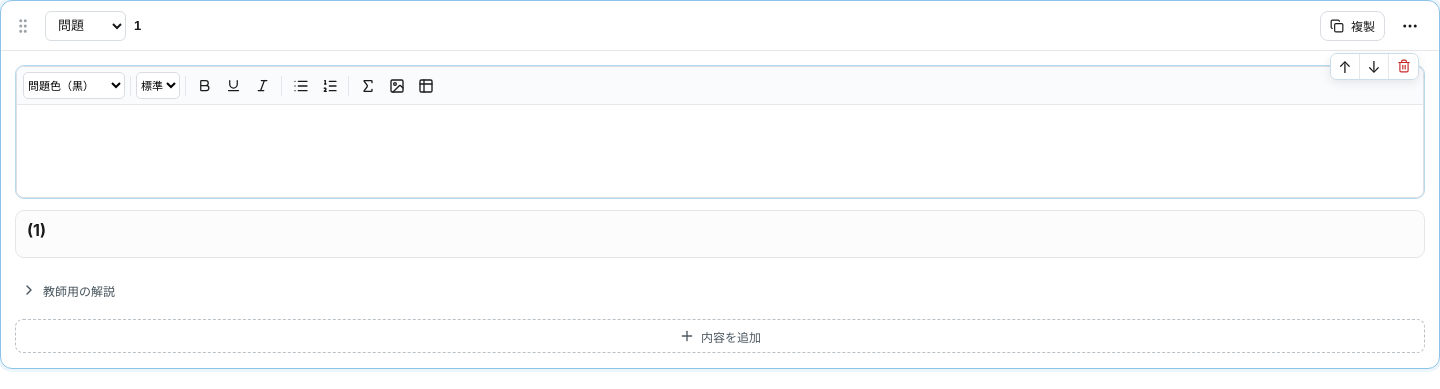
Test: ProblemCard › 内容の追加から画像と表を除き、選択中の内容のツールバーには残す
The image size is (1440, 389).
Click the button "内容を追加": (720, 336) [15, 319, 1425, 353]
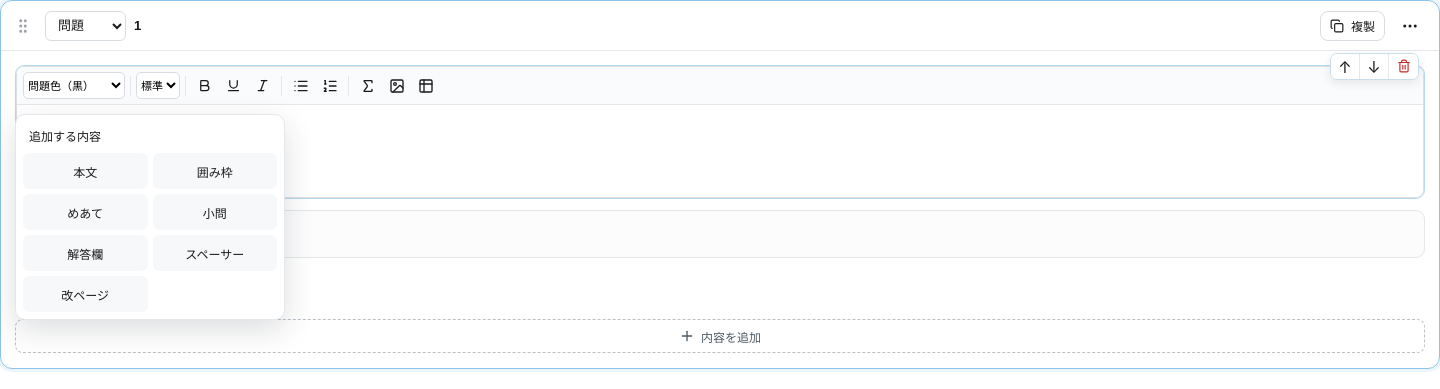
expect the number of buttons named "画像" is 1: met, box [383, 72, 410, 99]
expect the element with class "add-content-popover" is shown: met, box [15, 114, 285, 320]
expect the button "めあて" is shown: met, box [23, 194, 148, 230]
